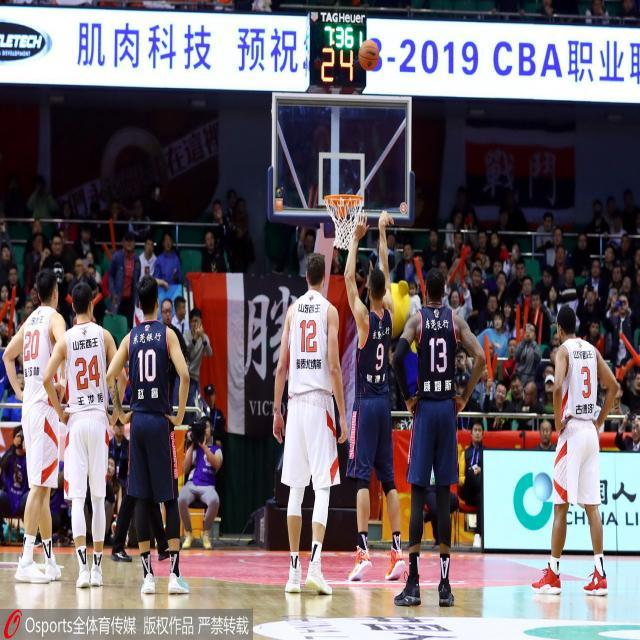rim: (359, 40, 379, 71)
